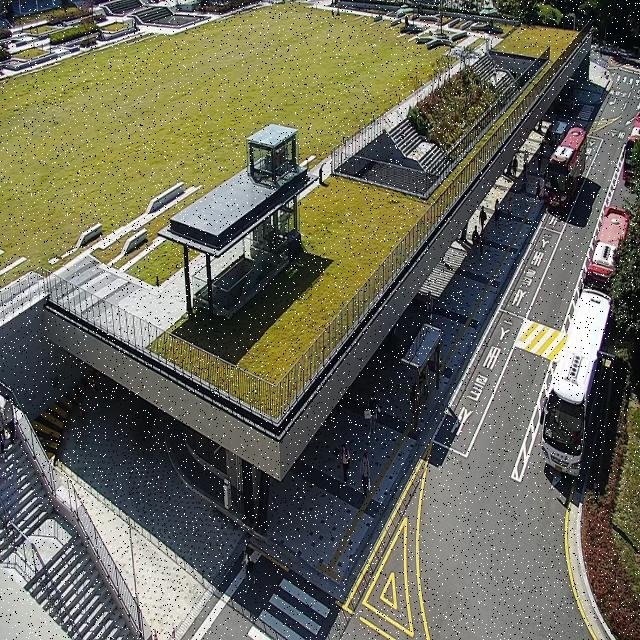queue: (416, 332, 442, 428)
